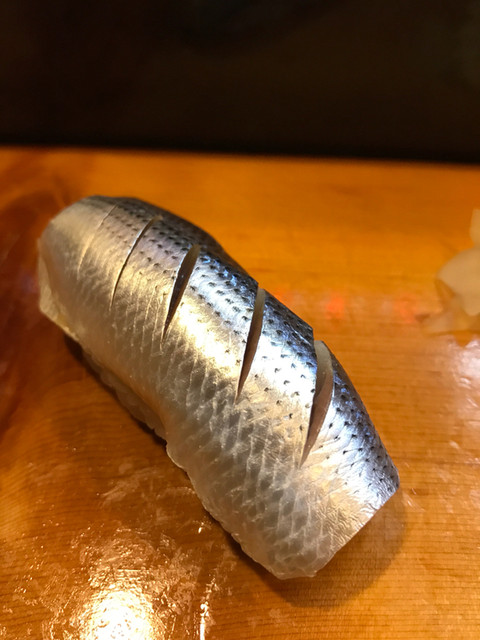spotted-shad: (35, 191, 407, 588)
